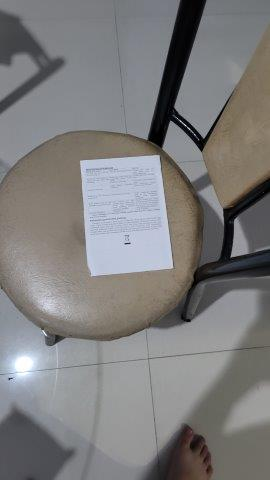kertas: (81, 153, 173, 274)
